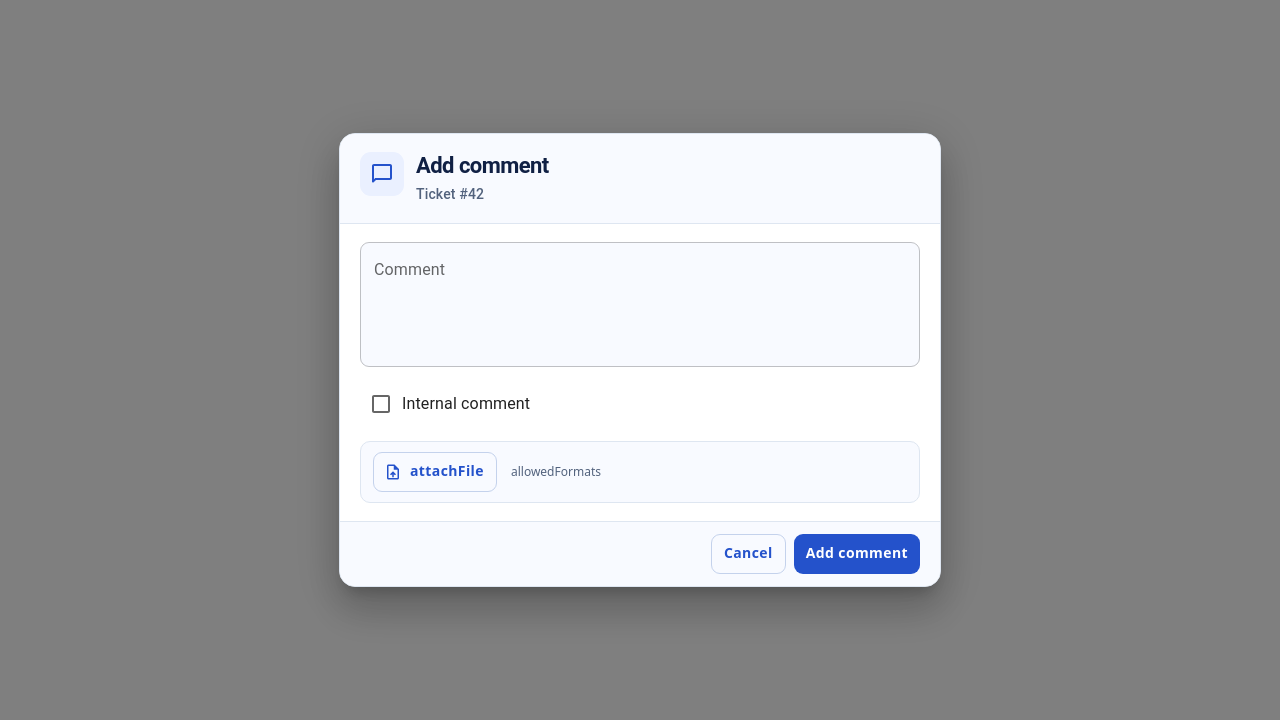
Test: AddTicketCommentDialog › shows an error and keeps the dialog open when creation fails
Type "Test comment" into the text box labelled "Comment".
click(640, 304); type("Test comment")  # box [374, 258, 906, 350]
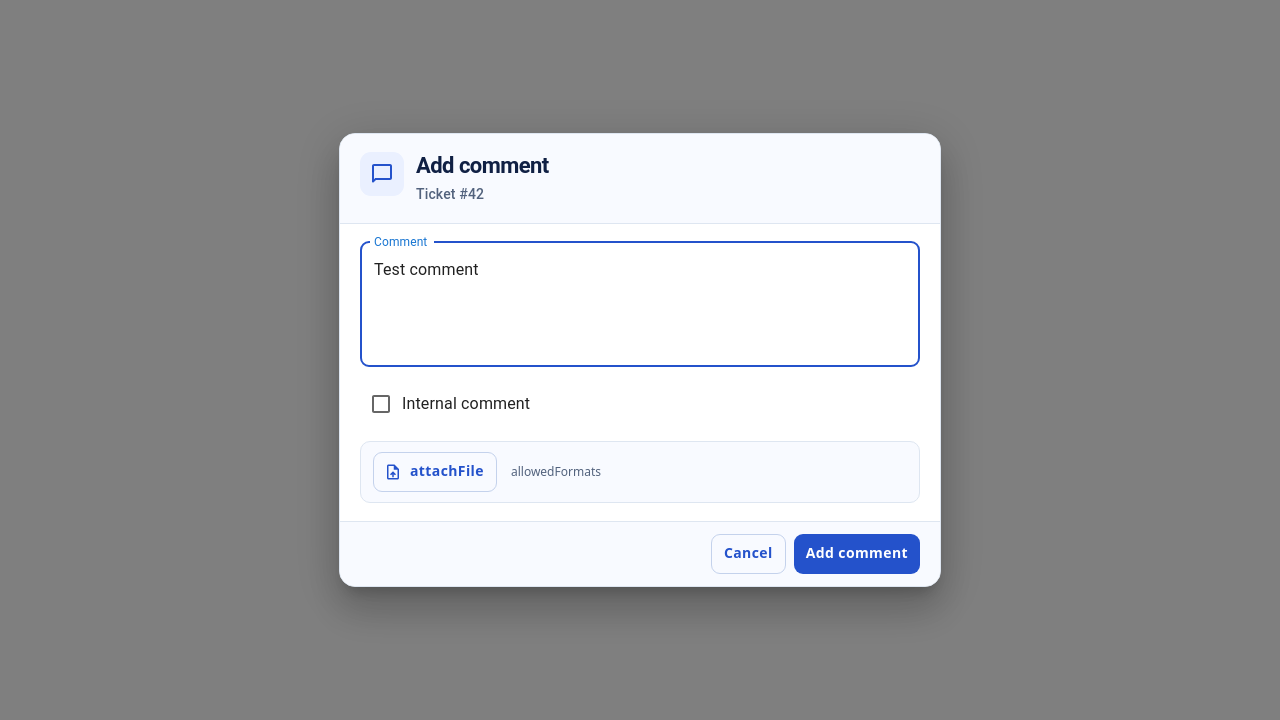
Click the button "Add comment".
click(857, 554)  # box [794, 534, 920, 574]
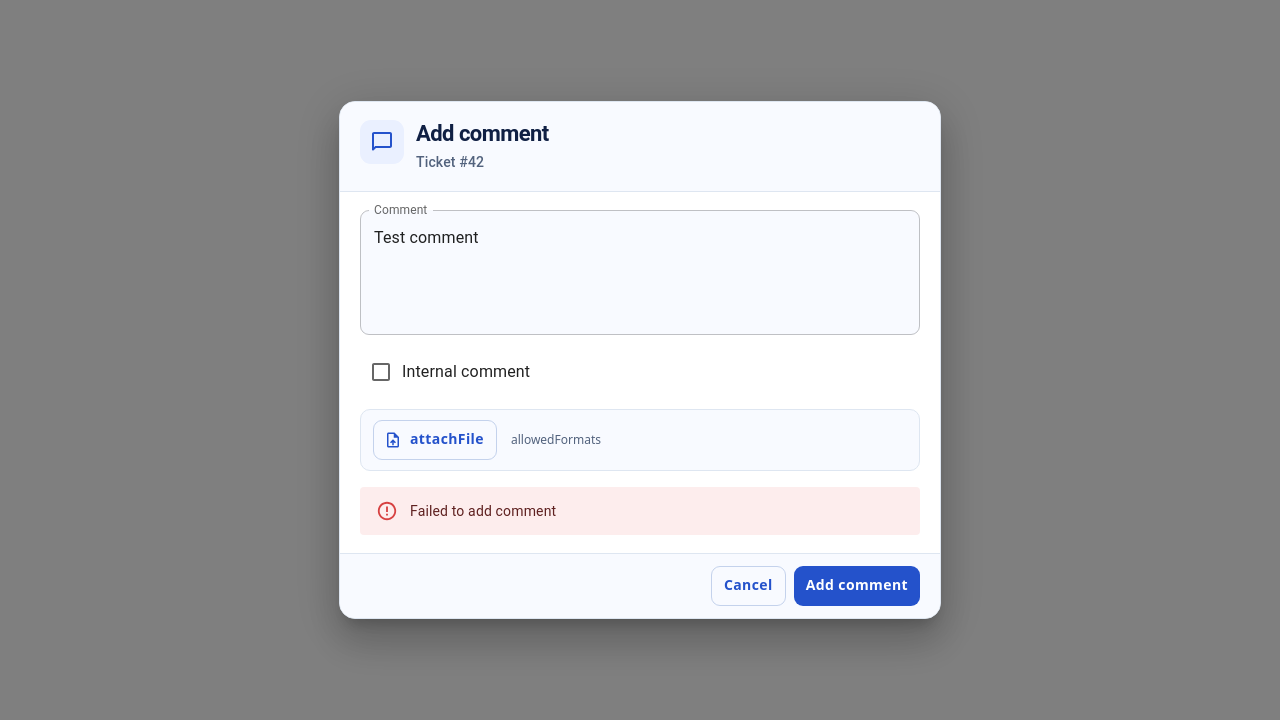
Expected: the message reads "Failed to add comment", [410, 502, 556, 518]
